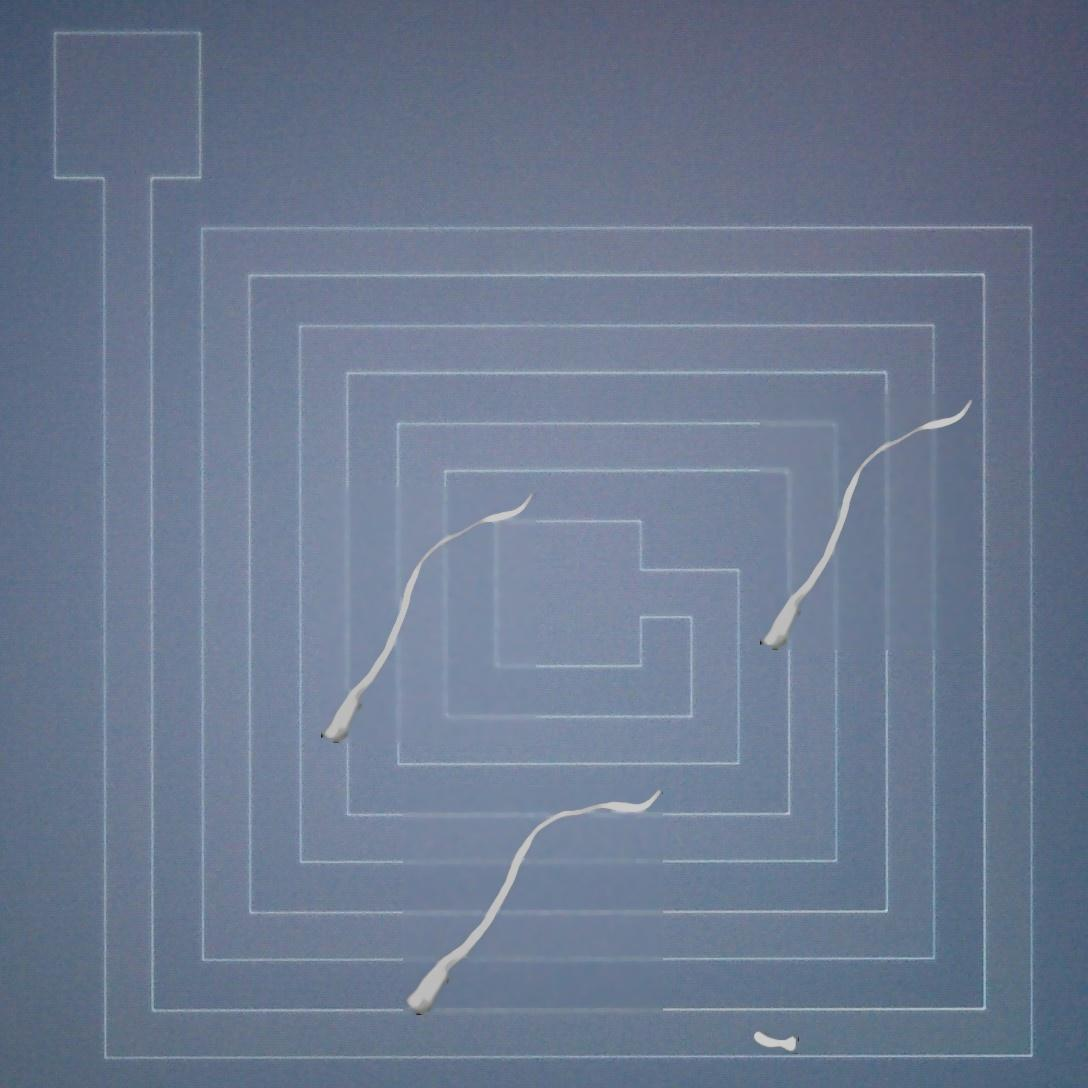foreign: (400, 785, 660, 1018), (312, 488, 542, 750), (762, 396, 977, 669), (751, 1026, 799, 1056)
